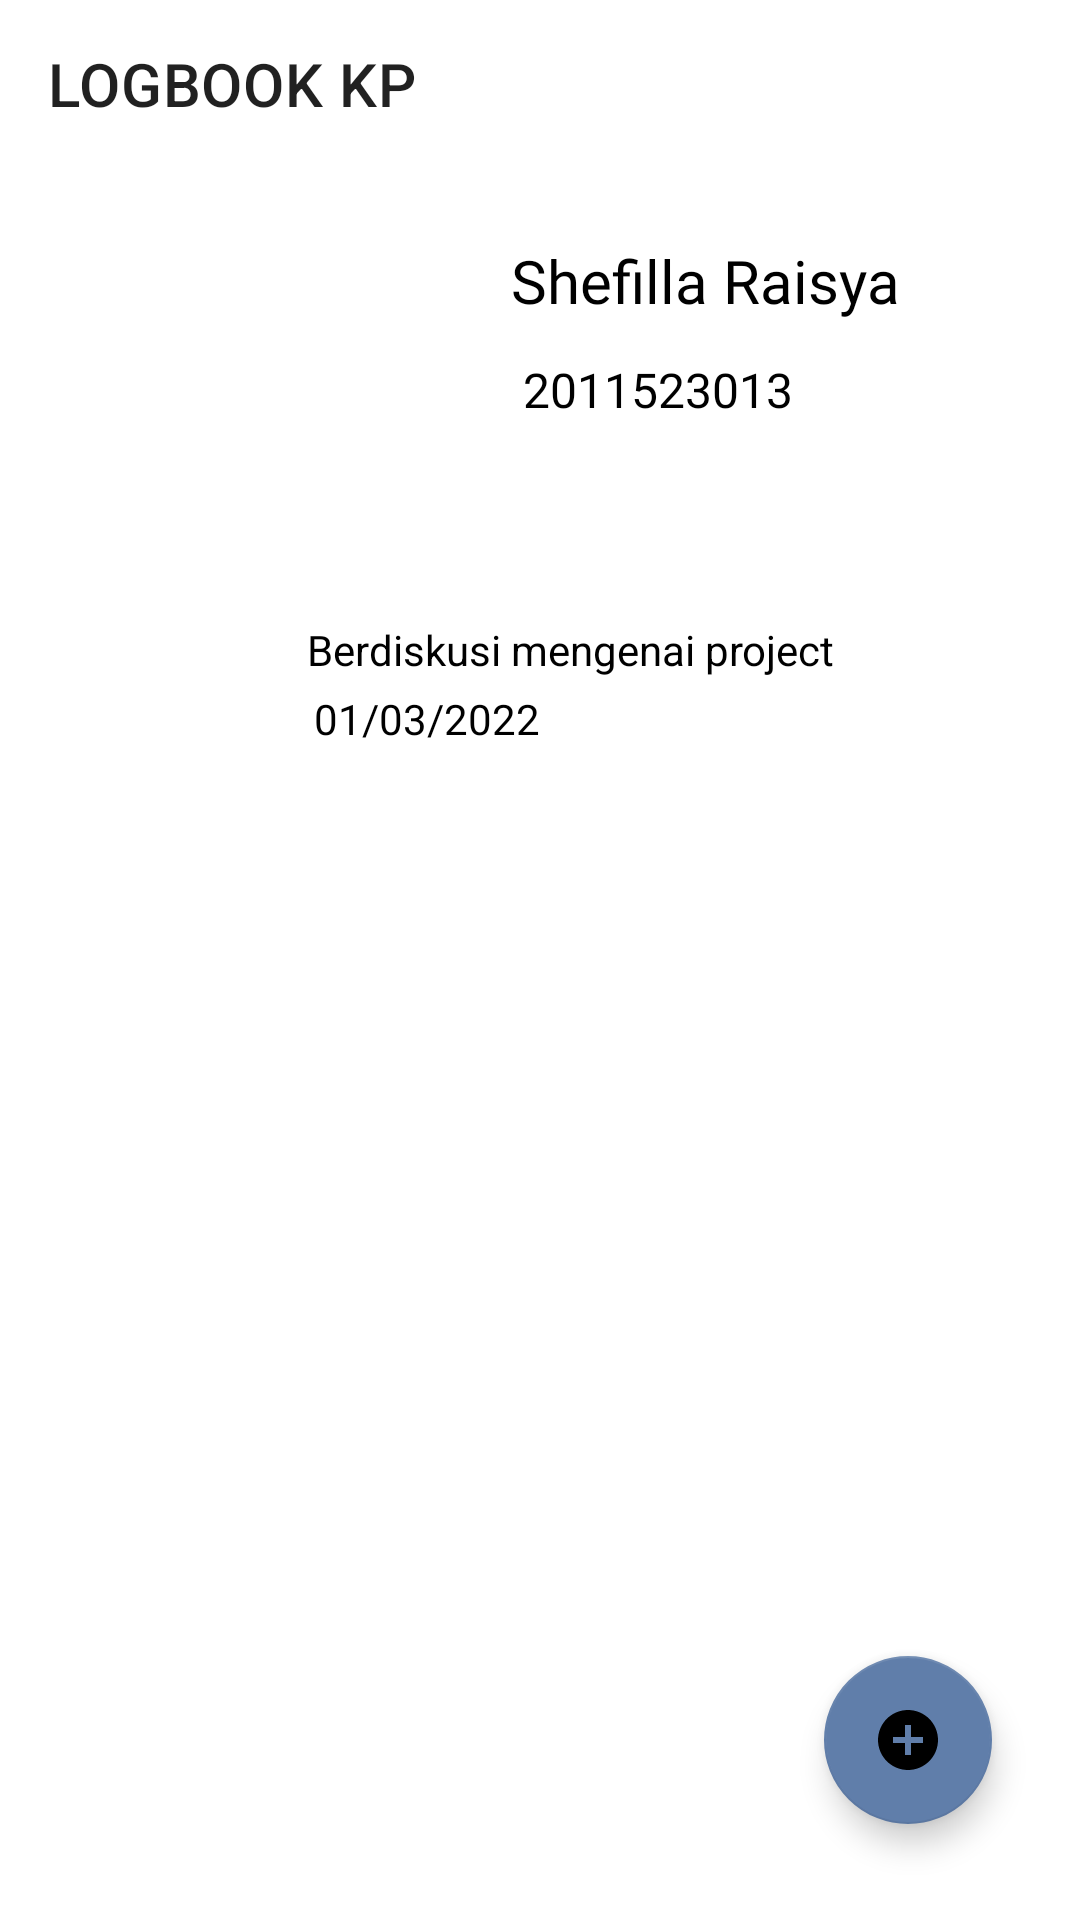

Named icons in this screenshot (1080px×1920px) and their centers, point (x, y):
tambah: point (908, 1740)
